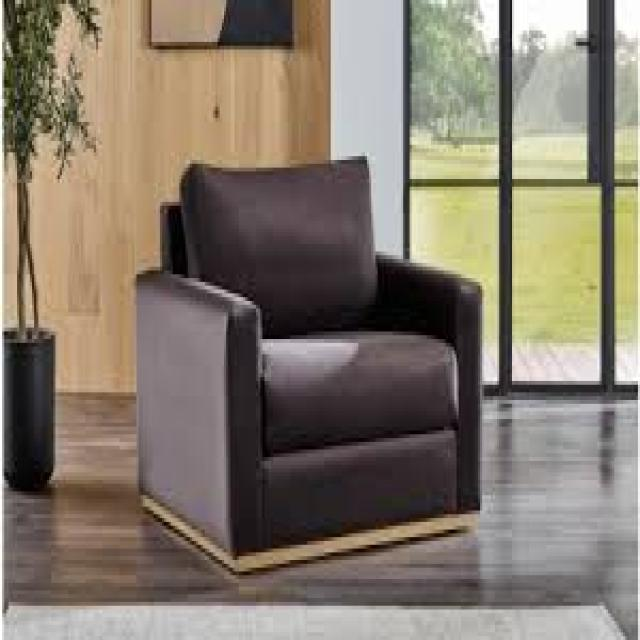chair: (120, 122, 516, 640)
